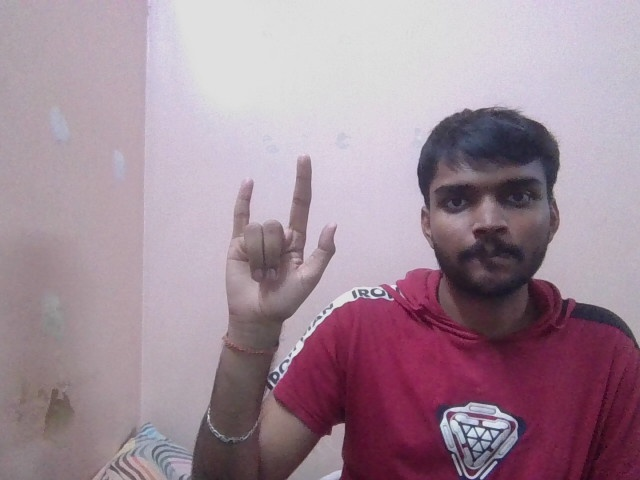I Love You: (224, 152, 338, 317)
